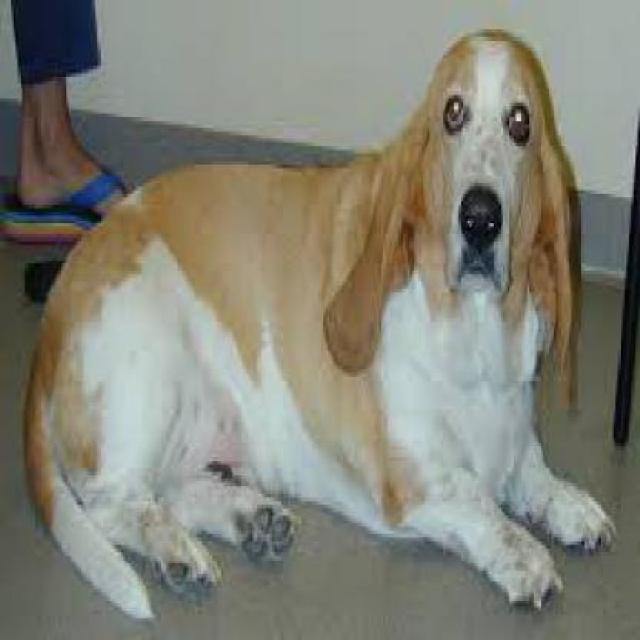Dog: (20, 26, 618, 637)
